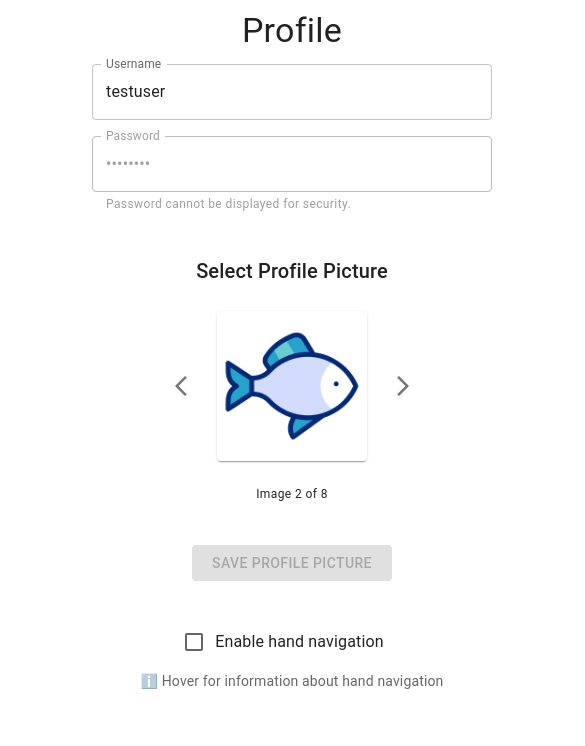
Test case: Profile Component › handles error during profile image update
The width and height of the screenshot is (585, 746).
Click the button named "next image" at (403, 386), box [383,366,423,406]
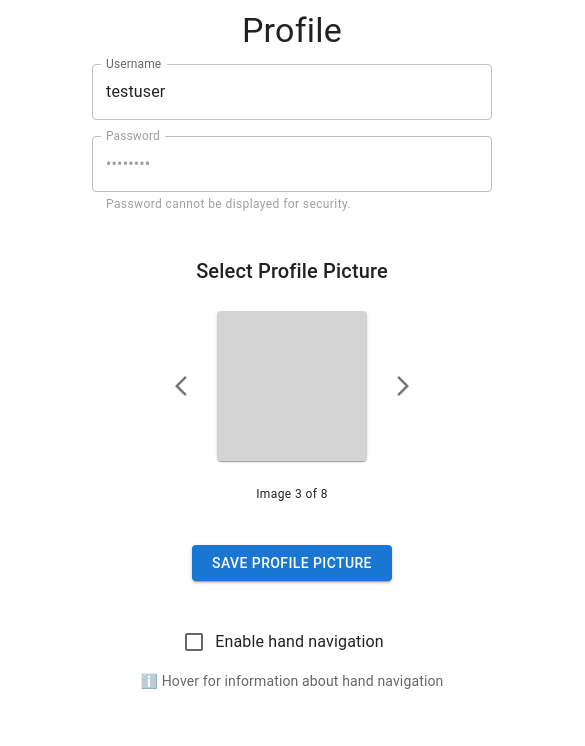
Expected: the button "Save Profile Picture" is enabled
Click the button "Save Profile Picture" at (292, 563), box [192,545,392,581]
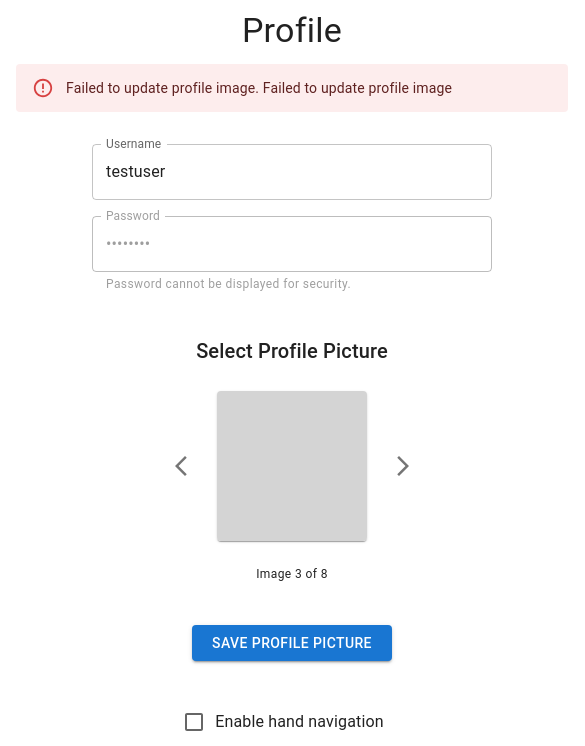
Expected: the button "Save Profile Picture" is enabled, [192,625,392,661]
Expected: the text "Failed to update profile image" is shown, [66,80,452,96]
